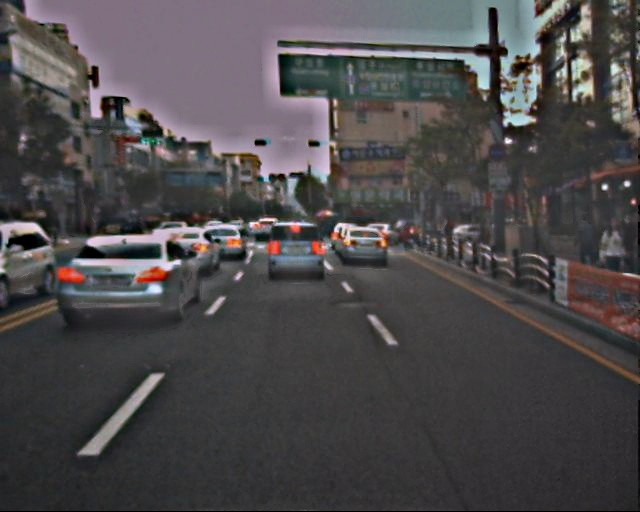person: (598, 217, 631, 297), (572, 214, 600, 282)
